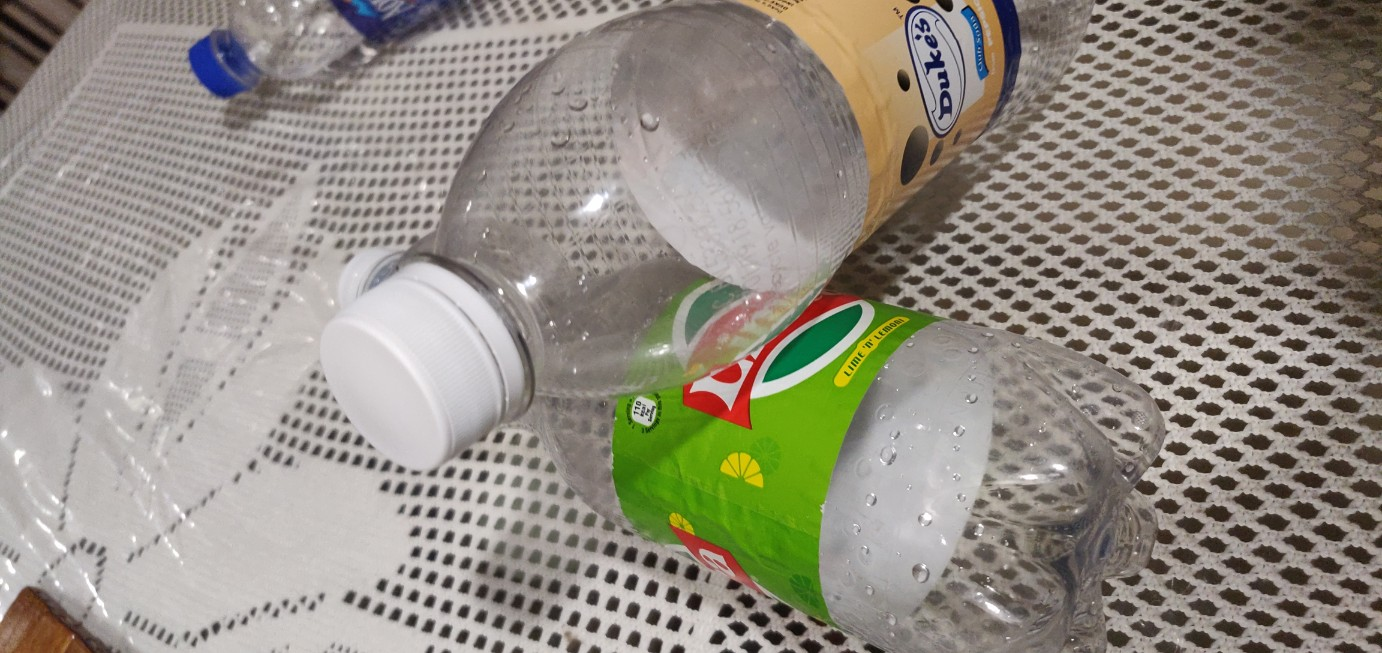Electronics: (320, 213, 1197, 653), (304, 1, 1102, 481)
